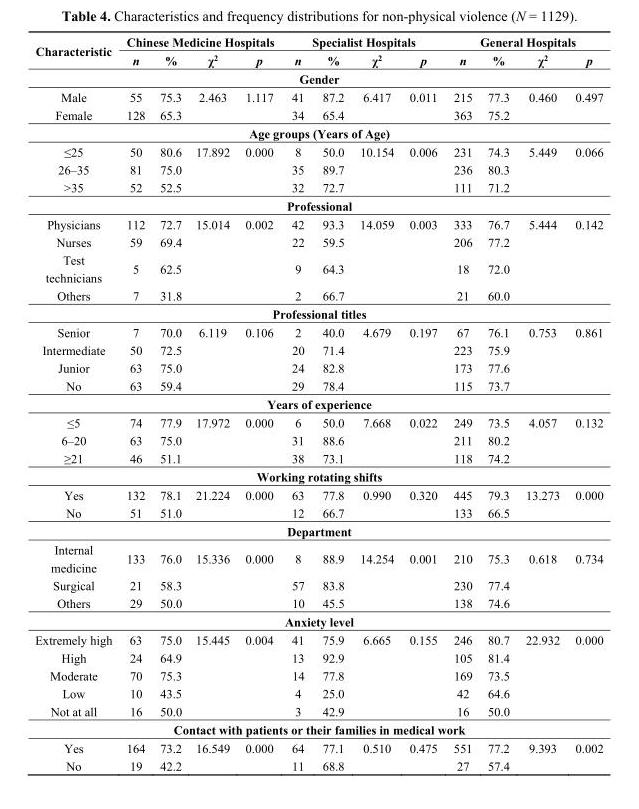table: (34, 34, 602, 772)
table column: (34, 34, 118, 772), (351, 34, 401, 772), (516, 34, 566, 772), (188, 34, 236, 772), (236, 34, 282, 772), (401, 34, 444, 772), (312, 34, 351, 772), (151, 34, 188, 772), (479, 34, 516, 772), (566, 34, 602, 772), (444, 34, 479, 772), (118, 34, 151, 772), (282, 34, 312, 772)
table column header: (34, 34, 602, 69)
table projected row header: (34, 123, 602, 142), (34, 394, 602, 413), (34, 521, 602, 540), (34, 69, 602, 87), (34, 196, 602, 214), (34, 304, 602, 322), (34, 467, 602, 485), (34, 612, 602, 630), (34, 720, 602, 738)
table row: (34, 250, 602, 286), (34, 540, 602, 576), (34, 50, 602, 69), (34, 123, 602, 142), (34, 394, 602, 413), (34, 521, 602, 540), (34, 593, 602, 612), (34, 69, 602, 87), (34, 87, 602, 105), (34, 105, 602, 123), (34, 142, 602, 160), (34, 160, 602, 178), (34, 178, 602, 196), (34, 196, 602, 214), (34, 214, 602, 232), (34, 232, 602, 250), (34, 286, 602, 304), (34, 304, 602, 322), (34, 322, 602, 340), (34, 340, 602, 358), (34, 358, 602, 376), (34, 376, 602, 394), (34, 413, 602, 431), (34, 431, 602, 449), (34, 449, 602, 467), (34, 467, 602, 485), (34, 485, 602, 503), (34, 503, 602, 521), (34, 612, 602, 630), (34, 630, 602, 648), (34, 648, 602, 666), (34, 666, 602, 684), (34, 684, 602, 702), (34, 702, 602, 720), (34, 720, 602, 738), (34, 738, 602, 756), (34, 576, 602, 593), (34, 34, 602, 50), (34, 756, 602, 772)
table spanning cell: (34, 34, 118, 69), (118, 34, 282, 50), (282, 34, 444, 50), (444, 34, 602, 50)
